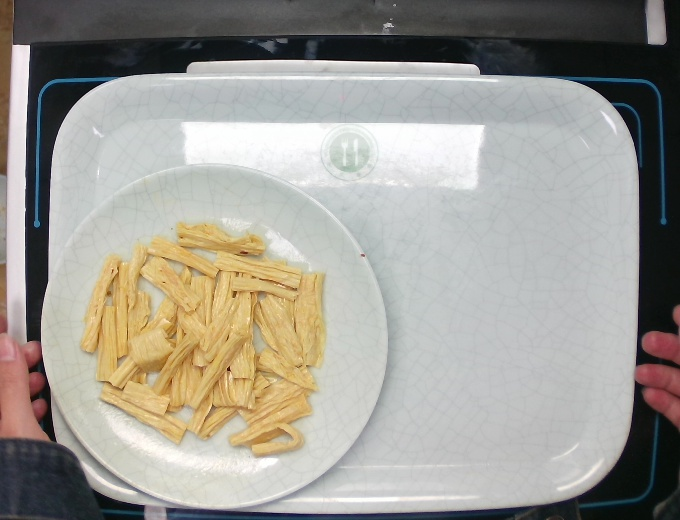JYsf-Da_Yuan_Pan: (38, 161, 391, 512)
